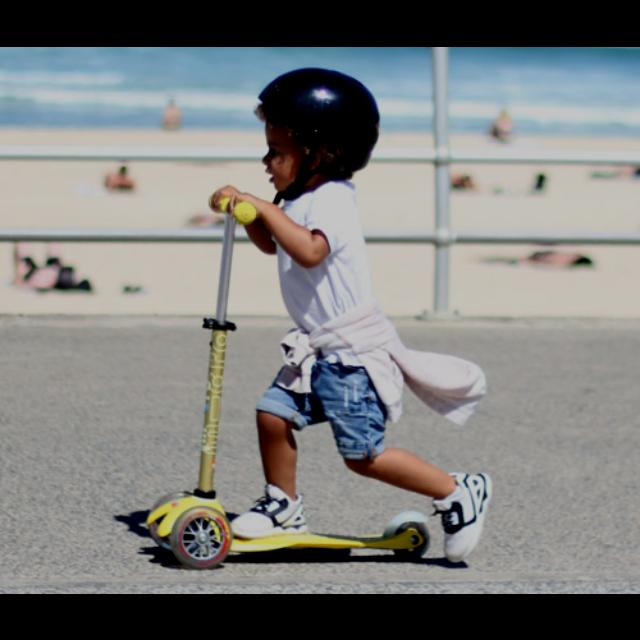With Helmet: (250, 58, 384, 204)
